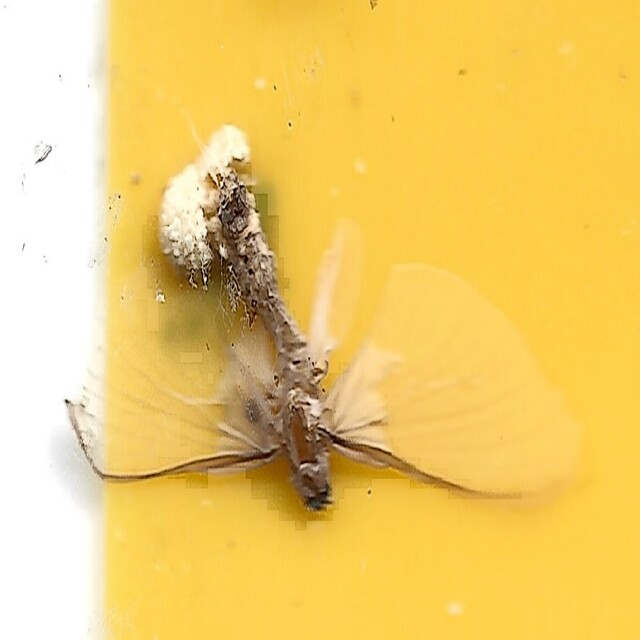Ephemeroptera: (62, 120, 578, 520)
